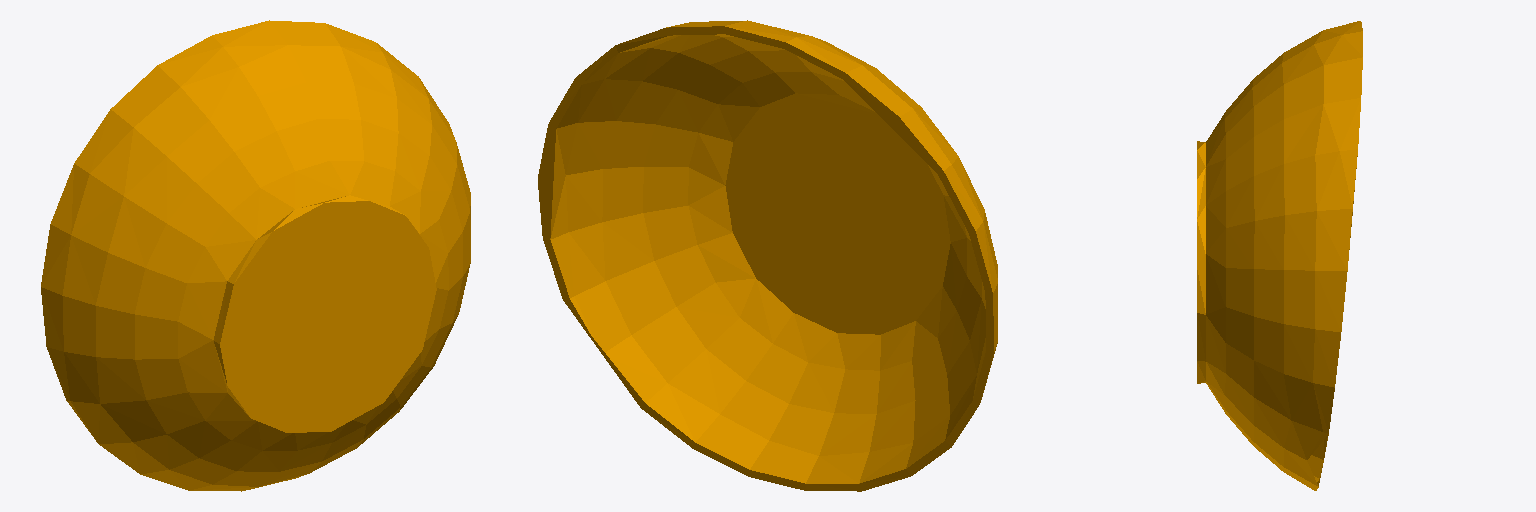
The robot description file, URDF, robot "indenter":
<robot name="indenter">
	<!-- <link name="world">
        </link>

        <joint name="world_to_indenter" type="prismatic">
                <parent link="world"/>
                <child link="indenter"/>
                <origin rpy="0.0 0.0 0.0" xyz="0.0 0.0 0.0"/>
                <axis xyz="0 1 0"/>
                <dynamics damping="0.0" friction="0.0"/>
                <limit lower="0.0" upper="0.4" velocity="1e9" effort="1e9"/>
        </joint> -->

	<link name="indenter">
		<visual>
			<origin rpy="0.0 0.0 0.0" xyz="0.0 0.0 0.0"/>
			<geometry>
				<mesh filename="../../meshes/target_objects/bowl_shapenet.obj"/>
			</geometry>
		</visual>
		<collision>
			<origin rpy="0.0 0.0 0.0" xyz="0.0 0.0 0.0"/>
			<geometry>
				<mesh filename="../../meshes/target_objects/bowl_shapenet.obj"/>
			</geometry>
		</collision>
		<inertial>
			<origin rpy="0.0 0.0 0.0" xyz="0.0 -8.64389e-3 0.0"/>
			<mass value="0.00224114"/>
			<inertia ixx="6.25553e-8" iyy="4.07645e-8" izz="6.25353e-8" ixy="0.0" ixz="4.69820e-15" iyz="0.0"/>
		</inertial>
	</link>
</robot>

--- Facts derived from the render (not from the file) ---
The picture shows the robot from 3 angles, left to right: view 1: azimuth 30°, elevation 25°; view 2: azimuth 150°, elevation 25°; view 3: azimuth 270°, elevation 25°; orthographic projection.
Model indenter with 1 links and 0 joints (none), rooted at indenter, posed every joint at zero.
Links seen in each view (by area): view 1: indenter; view 2: indenter; view 3: indenter.
Link boxes in pixels (<box>): indenter: <box>41,20,470,491</box>; indenter: <box>538,20,997,491</box>; indenter: <box>1197,21,1362,490</box>.
Bounding box of the posed robot: 0.179 × 0.063 × 0.177 m (x, y, z).
Meshes: 1 distinct files referenced, 1 mesh visuals loaded (1 OBJ).